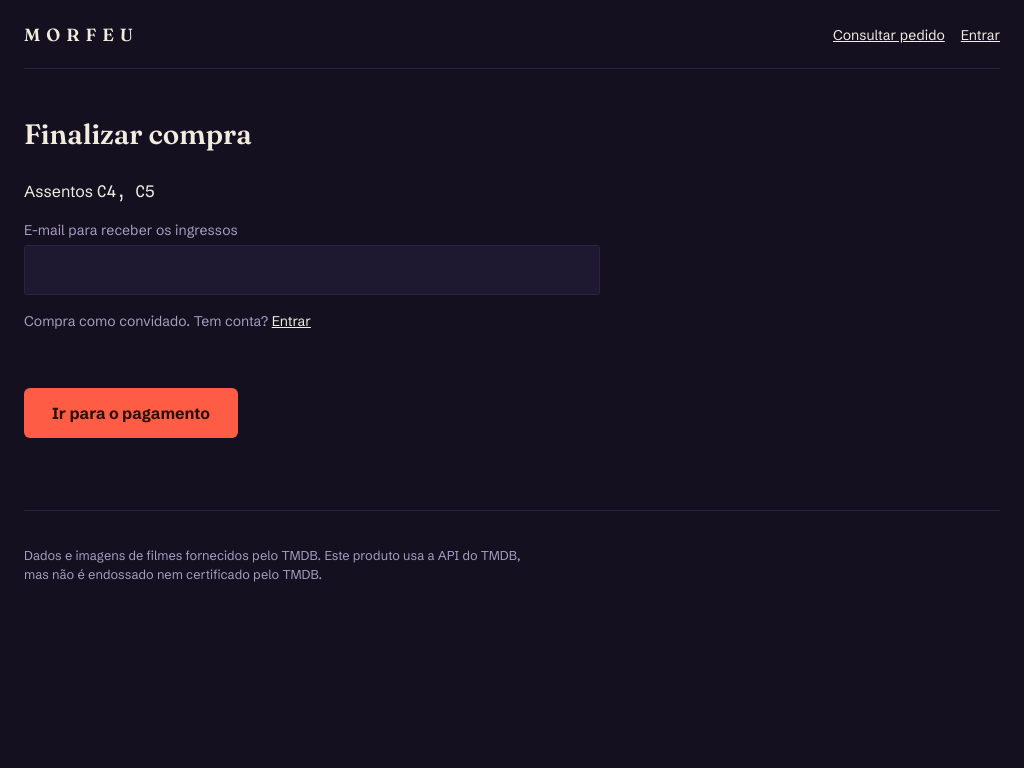
Scenario: checkout › convidado: só os assentos desta sessão, pedido criado e pagamento aberto sem vazar o segredo
Expected: the text "C4, C5" is shown, 97,182 -> 155,201
Expected: the text "Compra como convidado. Tem conta? Entrar" is shown, 24,312 -> 311,330
Type "bia@exemplo.com" into the field labelled "E-mail para receber os ingressos" at (312, 270), box 24,245 -> 600,295
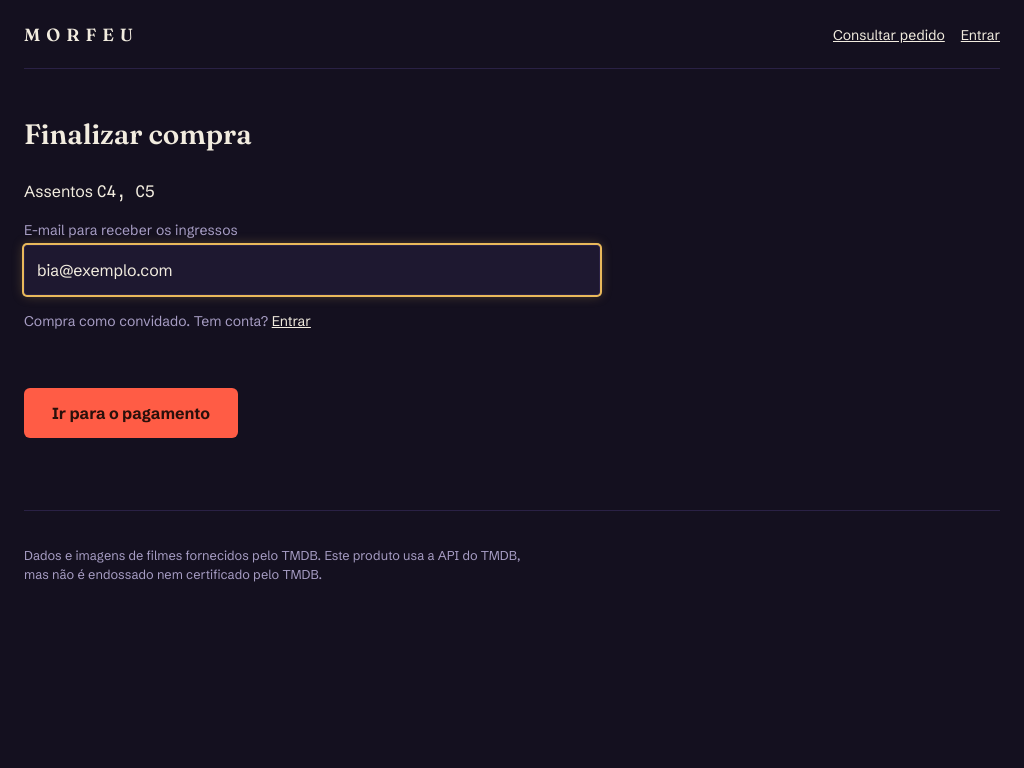
Click the button "Ir para o pagamento" at (131, 413), box 24,388 -> 238,438
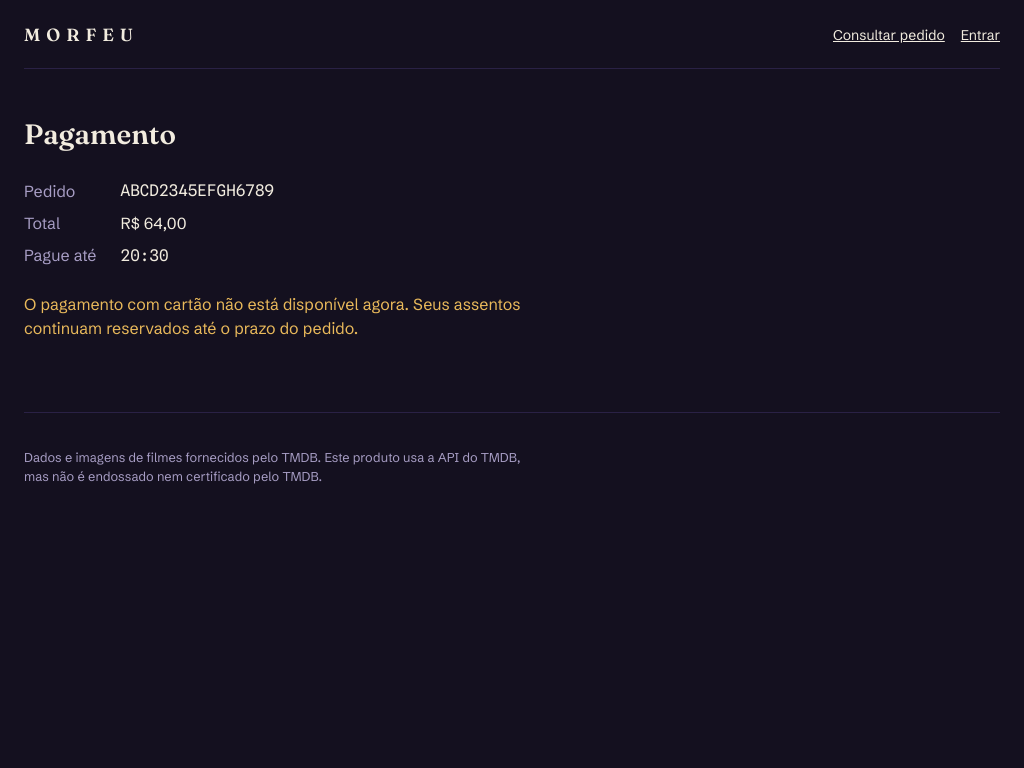
Now the heading "Pagamento" is shown, box 24,117 -> 176,151
Now the text "ABCD2345EFGH6789" is shown, box 120,181 -> 274,200
Now the text "R$ 64,00" is shown, box 120,213 -> 187,233
